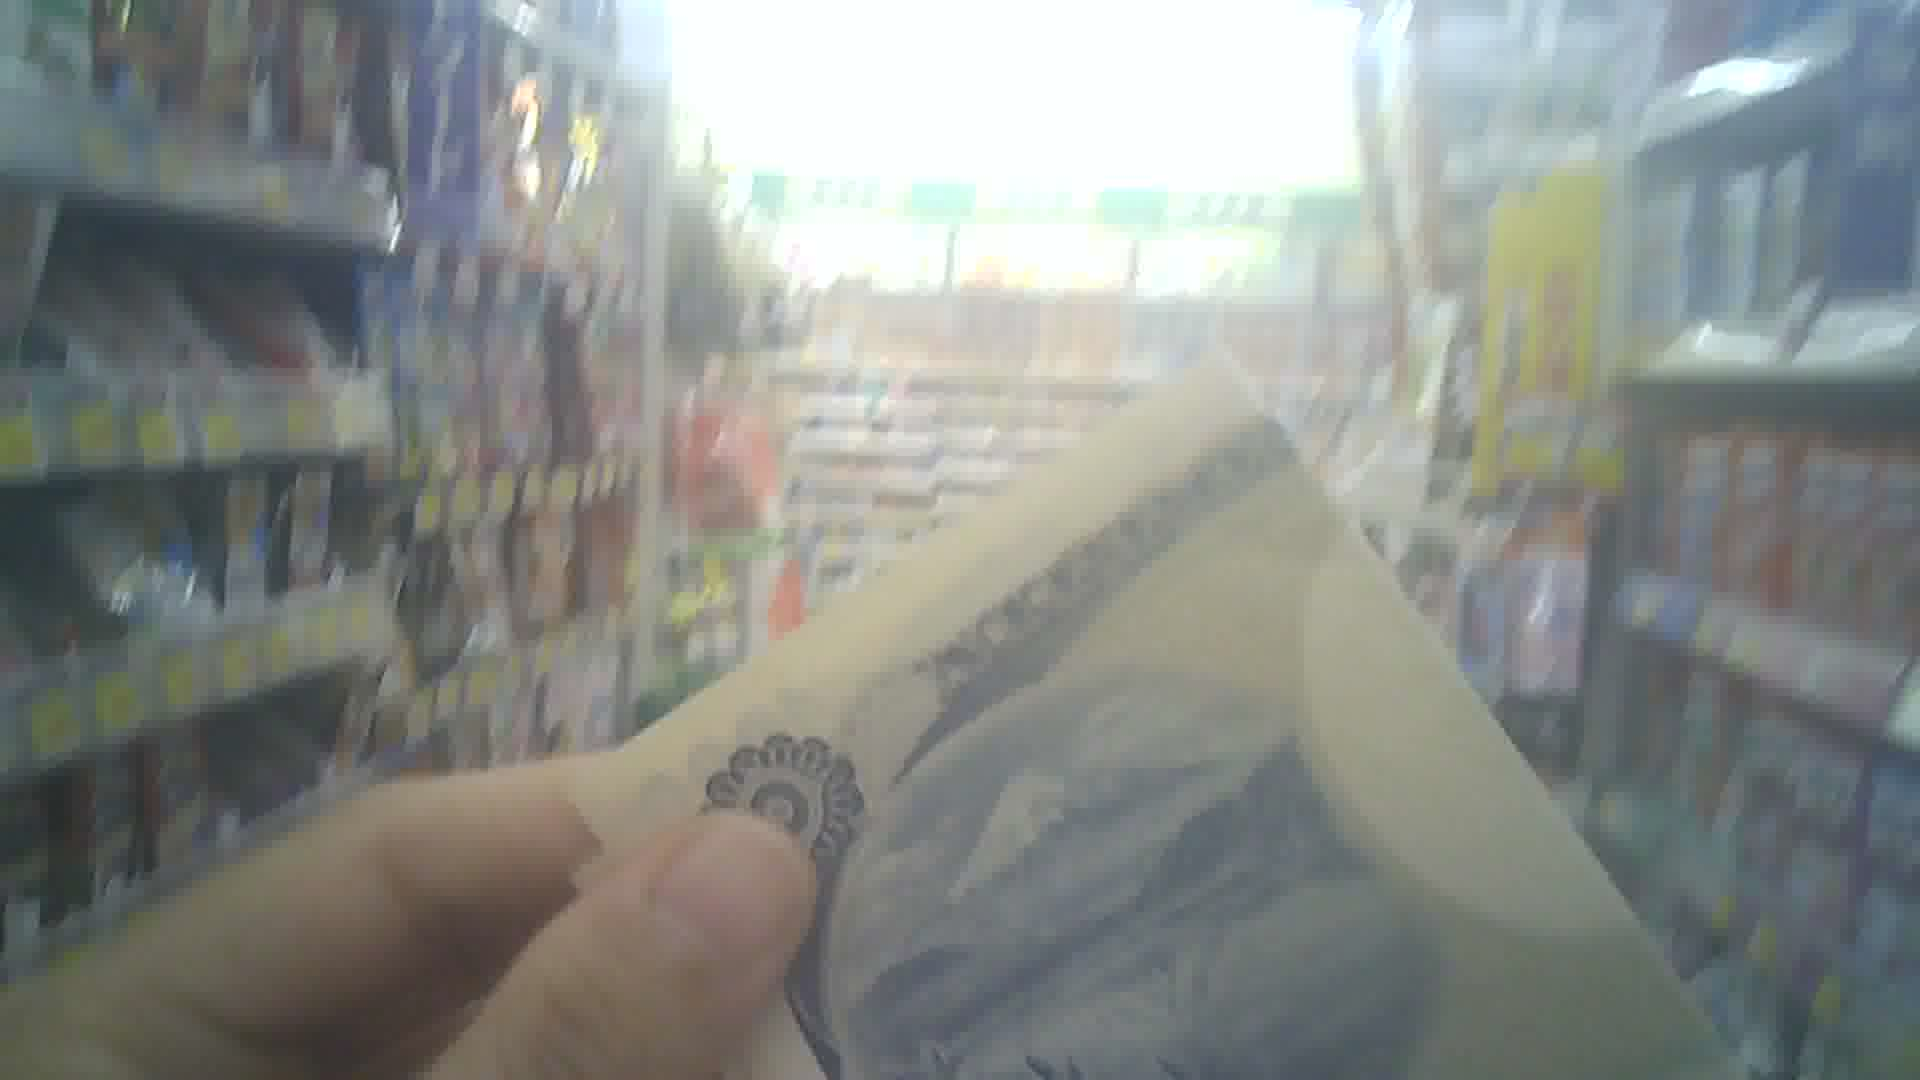1,000 Yen: (560, 356, 1726, 1079)
